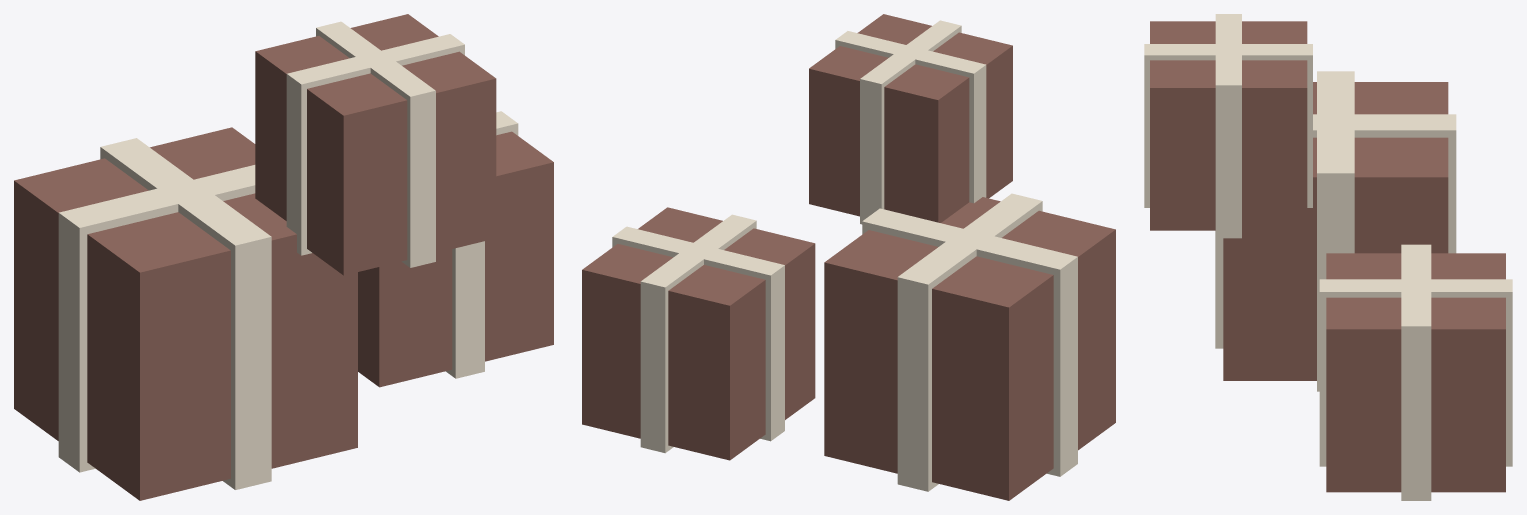
File: crates.glb
3 renders of one model, left to right at view 1: azimuth 30°, elevation 25°; view 2: azimuth 150°, elevation 25°; view 3: azimuth 270°, elevation 25°, orthographic. The views are drawn at different scales.
Parts seen in each view (by area): view 1: Supply crate, Supply crate.002, Supply crate.001, Crate band.001, Crate band, Crate band.005, Crate band.004, Crate band.003; view 2: Supply crate, Supply crate.001, Supply crate.002, Crate band.001, Crate band, Crate band.003, Crate band.002, Crate band.005, Crate band.004; view 3: Supply crate.001, Supply crate, Supply crate.002, Crate band.002, Crate band, Crate band.004, Crate band.003, Crate band.001, Crate band.005.
Boxes of the visible parts, left/top/right/bottom form: Supply crate: left=14, top=127, right=357, bottom=500; Supply crate.002: left=255, top=14, right=496, bottom=275; Supply crate.001: left=358, top=131, right=553, bottom=387; Crate band.001: left=100, top=138, right=271, bottom=489; Crate band: left=58, top=165, right=255, bottom=472; Crate band.005: left=316, top=21, right=435, bottom=267; Crate band.004: left=286, top=34, right=464, bottom=255; Crate band.003: left=446, top=241, right=484, bottom=378; Supply crate: left=824, top=197, right=1115, bottom=500; Supply crate.001: left=582, top=207, right=815, bottom=460; Supply crate.002: left=809, top=14, right=1012, bottom=222; Crate band.001: left=897, top=193, right=1042, bottom=491; Crate band: left=862, top=208, right=1077, bottom=476; Crate band.003: left=640, top=214, right=756, bottom=453; Crate band.002: left=612, top=226, right=784, bottom=441; Crate band.005: left=860, top=20, right=961, bottom=224; Crate band.004: left=835, top=31, right=986, bottom=203; Supply crate.001: left=1326, top=253, right=1505, bottom=492; Supply crate: left=1223, top=82, right=1448, bottom=380; Supply crate.002: left=1150, top=21, right=1307, bottom=230; Crate band.002: left=1401, top=244, right=1431, bottom=500; Crate band: left=1317, top=71, right=1354, bottom=391; Crate band.004: left=1215, top=14, right=1241, bottom=238; Crate band.003: left=1319, top=279, right=1512, bottom=466; Crate band.001: left=1215, top=114, right=1456, bottom=348; Crate band.005: left=1144, top=44, right=1312, bottom=207.
Size of the model in its own units: 0.935 by 0.7165 by 0.6875.
